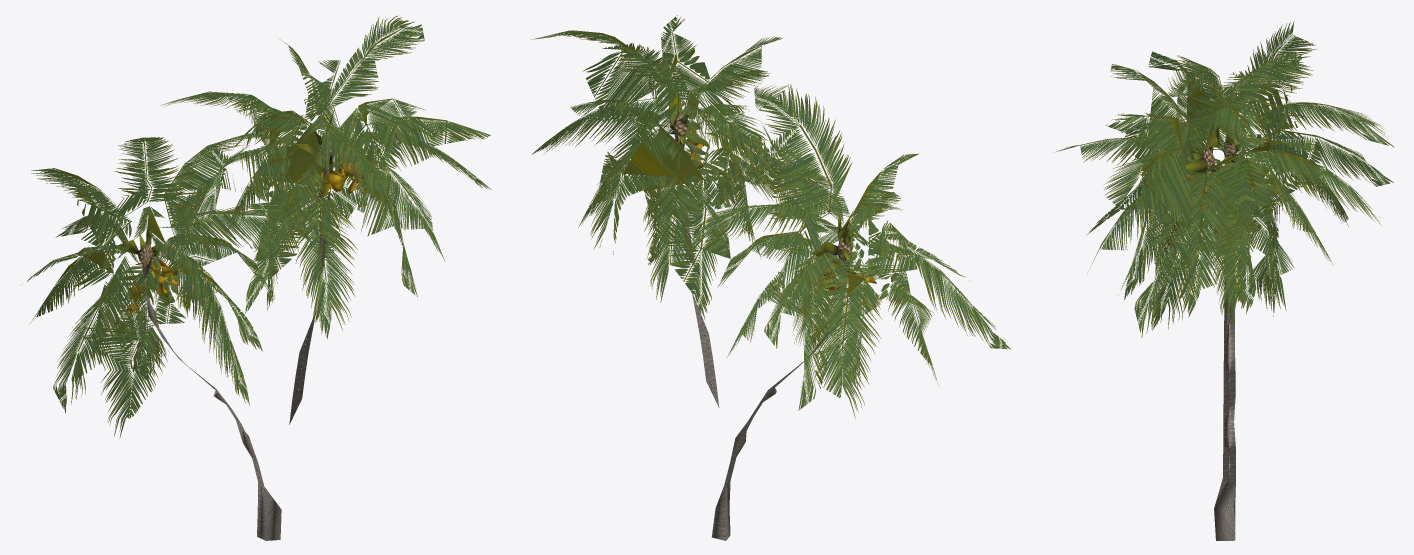
Rendered from palm_coconut_lod2.glb.
The picture shows the model from 3 angles, left to right: view 1: azimuth 30°, elevation 25°; view 2: azimuth 150°, elevation 25°; view 3: azimuth 270°, elevation 25°; orthographic projection. The views are drawn at different scales.
Parts seen in each view (by area): view 1: Tree_2, Tree_0, Tree_4, Tree_3; view 2: Tree_2, Tree_0, Tree_3, Tree_4; view 3: Tree_2, Tree_0, Tree_3.
Part boxes in pixels (x1,y1,x2,y2): Tree_2: (21, 15, 491, 438); Tree_0: (143, 188, 330, 540); Tree_4: (124, 159, 363, 314); Tree_3: (116, 102, 366, 281); Tree_2: (530, 15, 1010, 419); Tree_0: (678, 185, 845, 540); Tree_3: (655, 90, 863, 275); Tree_4: (644, 130, 876, 305); Tree_2: (1053, 21, 1394, 337); Tree_0: (1214, 212, 1235, 540); Tree_3: (1177, 120, 1258, 189).
Bounding box in the file's own units: 6.3 × 6.21 × 4.02.
Materials: 5 (5 with a texture image).
